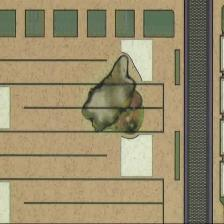PARTICLE: (81, 52, 148, 144)
